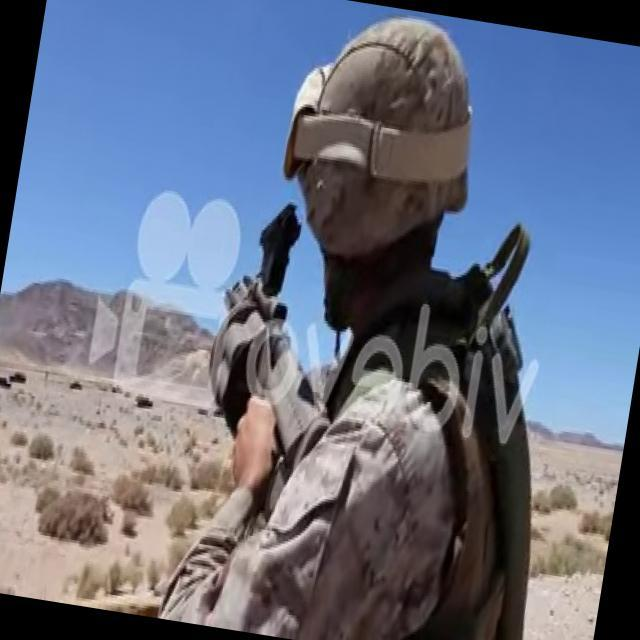rocket: (195, 206, 362, 494)
